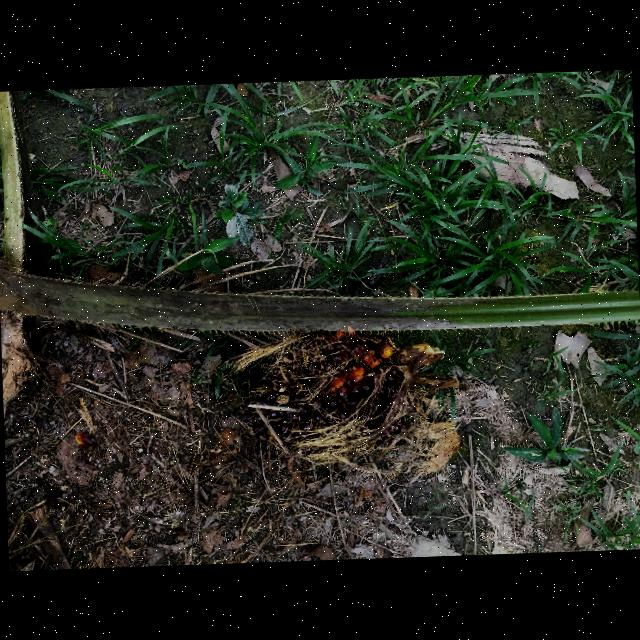Ripe: (237, 328, 462, 479)
